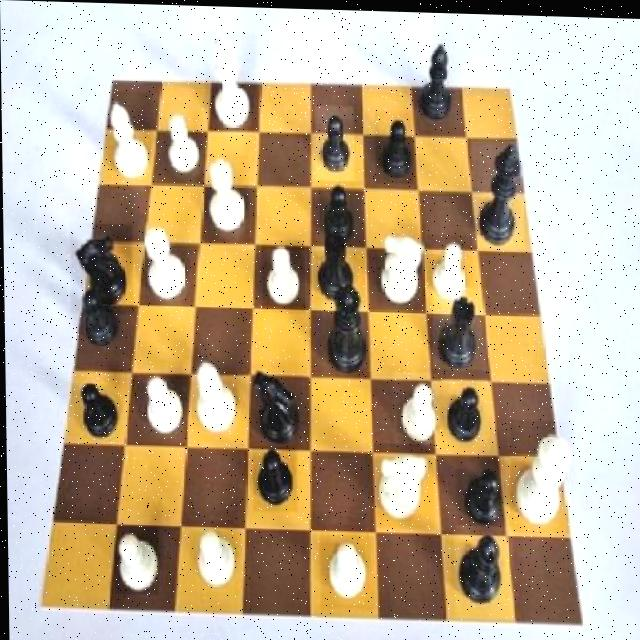bishop: (454, 523, 512, 617), (414, 30, 455, 132)
black-bishop: (470, 137, 523, 245)
black-king: (69, 222, 132, 313), (247, 360, 308, 447)
black-knight: (77, 280, 132, 355), (72, 372, 122, 449), (456, 450, 504, 525), (440, 376, 488, 450), (251, 441, 296, 511), (314, 103, 353, 180), (319, 178, 363, 242), (375, 107, 413, 181)
black-pawn: (320, 270, 369, 384)
black-queen: (307, 219, 364, 301), (432, 284, 487, 367)
black-rook: (186, 352, 237, 441), (106, 91, 154, 184)
white-bishop: (509, 418, 575, 532)
white-king: (373, 441, 433, 526), (375, 221, 426, 307)
white-knight: (318, 533, 375, 609), (187, 516, 238, 598), (427, 233, 474, 312), (392, 369, 440, 445), (140, 363, 185, 443), (261, 239, 304, 313), (112, 524, 157, 594), (161, 108, 201, 185)
white-pawn: (205, 31, 259, 132)
white-queen: (140, 222, 200, 304), (203, 152, 249, 246)
